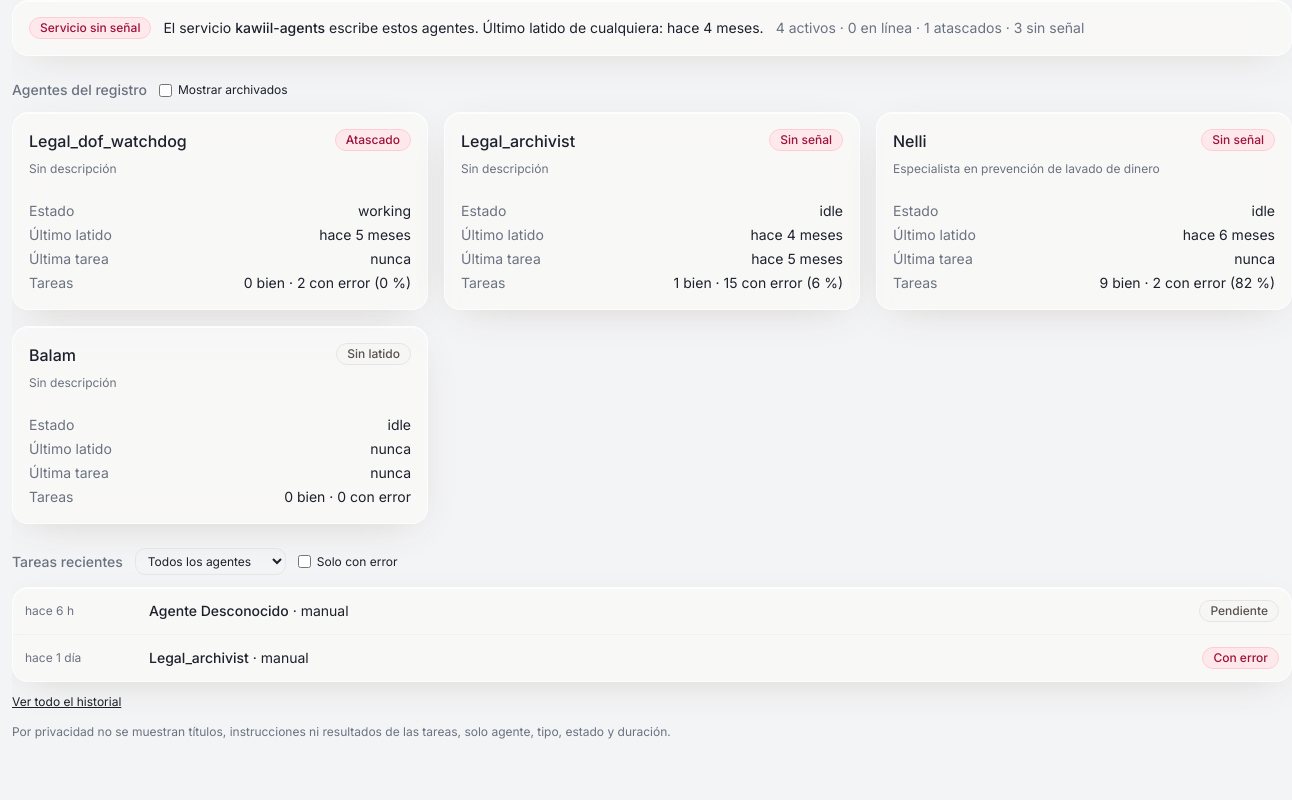
Test: vista AgentesRegistro › 'Solo con error' deja las tareas con error
The image size is (1292, 800).
Click the checkbox labelled "Solo con error": (304, 562) [298,555,311,568]
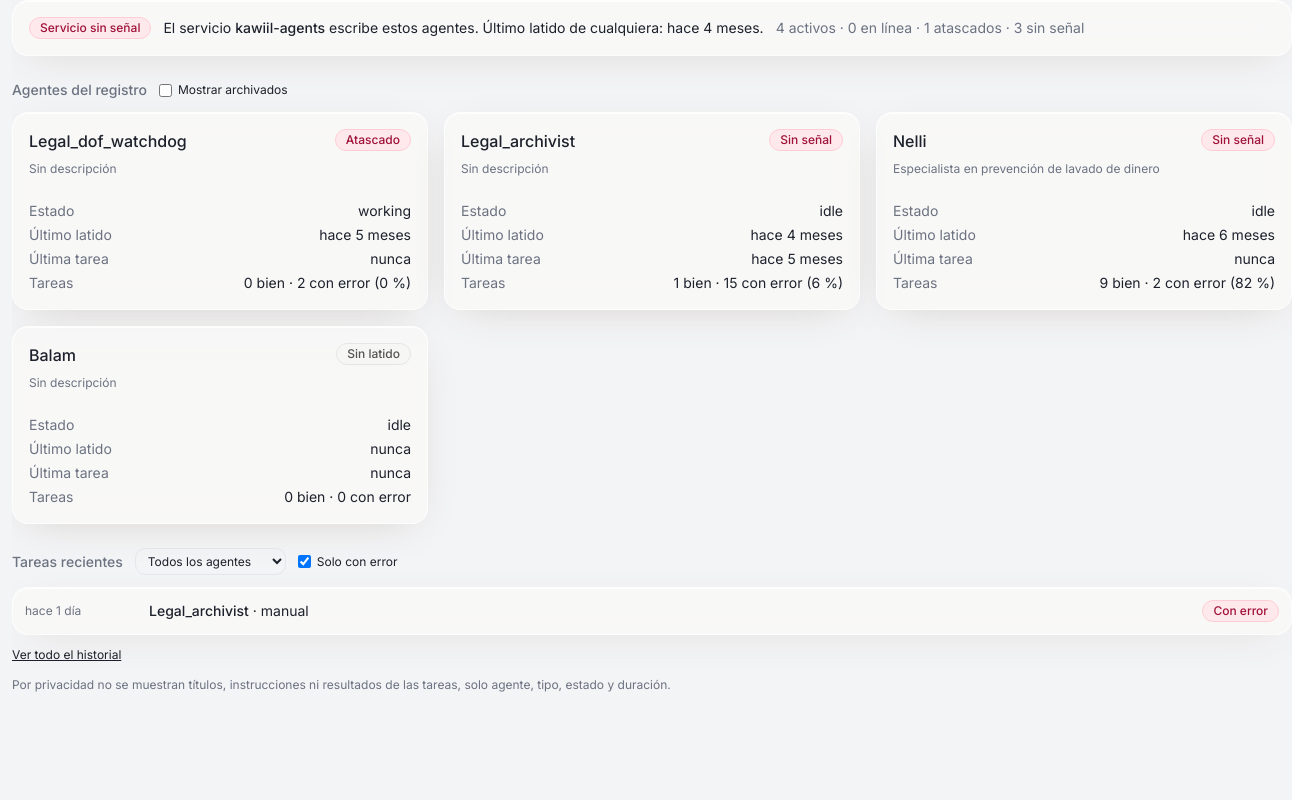
Check: the list item with test id "tarea-t3" is shown, box [25,600,1279,622]
Check: the list item with test id "tarea-t4" is gone
